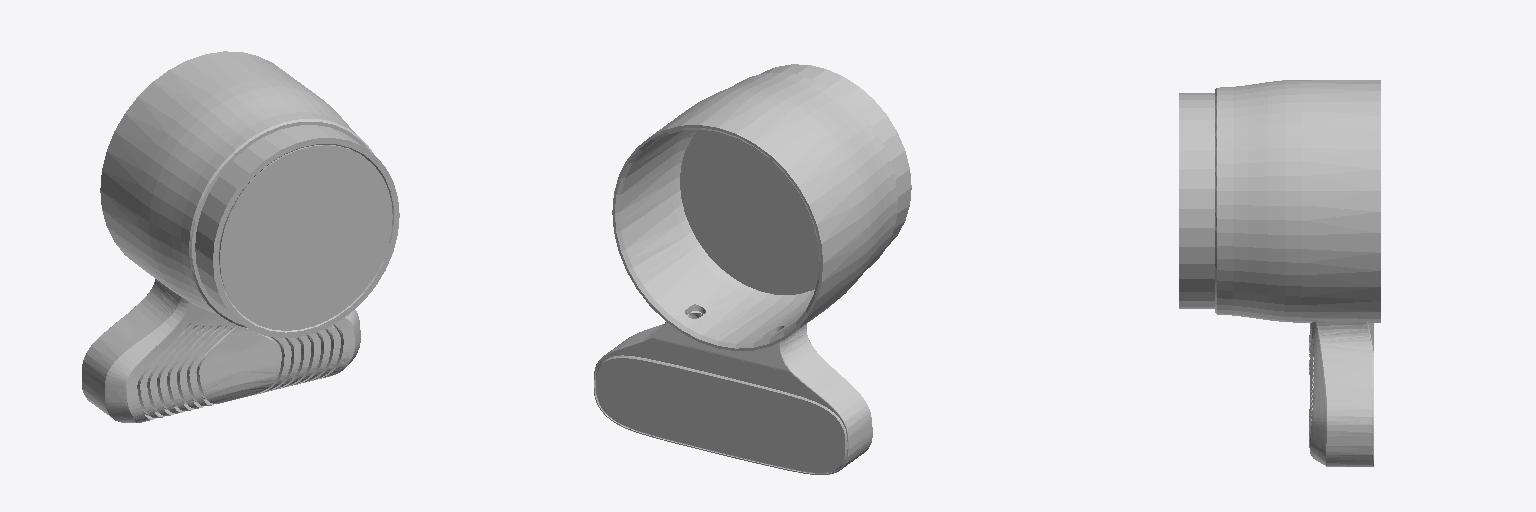
File: bracelet_with_vision_link.obj
3 renders of one model, left to right at view 1: azimuth 30°, elevation 25°; view 2: azimuth 150°, elevation 25°; view 3: azimuth 270°, elevation 25°, orthographic.
Visible parts, largest first — view 1: Bracelet_With_Vision_Link; view 2: Bracelet_With_Vision_Link; view 3: Bracelet_With_Vision_Link.
Part boxes in pixels (bbox=[...]): Bracelet_With_Vision_Link: bbox=[82, 51, 399, 422]; Bracelet_With_Vision_Link: bbox=[594, 64, 911, 474]; Bracelet_With_Vision_Link: bbox=[1179, 80, 1380, 466].
Bounding box in the file's own units: 0.091 × 0.1122 × 0.0619.